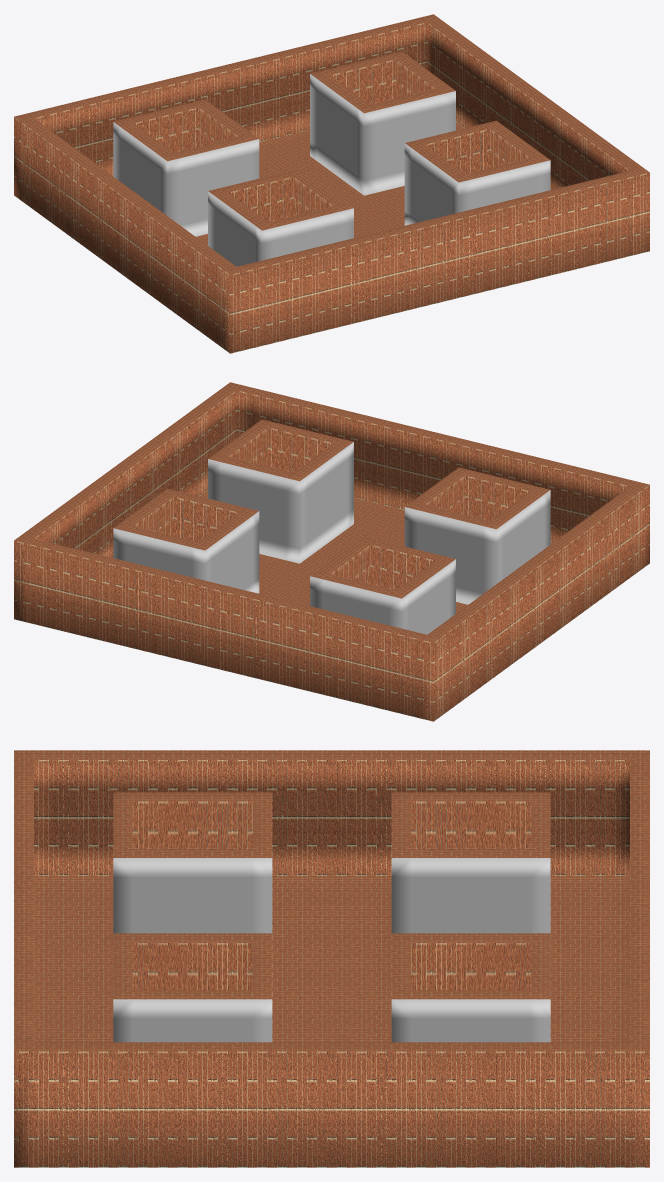
File: level1_withtexture.fbx
3 renders of one model, top to bottom at view 1: azimuth 30°, elevation 25°; view 2: azimuth 150°, elevation 25°; view 3: azimuth 270°, elevation 25°, orthographic. The views are drawn at different scales.
Parts seen in each view (by area): view 1: Plane; view 2: Plane; view 3: Plane.
Part boxes in pixels (x1=…): Plane: x1=14, y1=14, x2=649, y2=353; Plane: x1=14, y1=382, x2=649, y2=721; Plane: x1=14, y1=750, x2=649, y2=1167.
Size of the model in its own units: 24.18 by 4.53 by 21.58.
2 materials, 1 textured.
